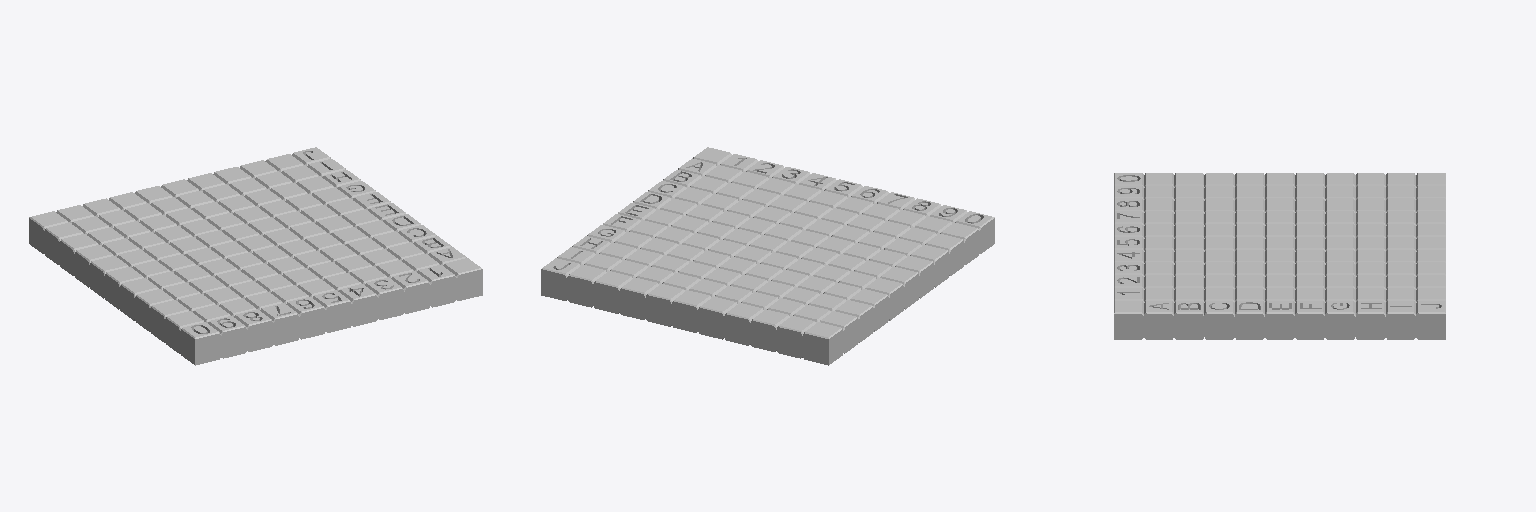
Rendered from Board.obj.
3 views of the same model, side by side, from view 1: azimuth 30°, elevation 25°; view 2: azimuth 150°, elevation 25°; view 3: azimuth 270°, elevation 25° (orthographic).
Parts seen in each view (by area): view 1: pCube57; view 2: pCube57; view 3: pCube57.
Boxes of the visible parts, box(x1,y1,x2,y2) form: pCube57: box(29, 147, 482, 365); pCube57: box(541, 147, 994, 365); pCube57: box(1114, 173, 1445, 339).
Bounding box in the file's own units: 11 × 1 × 11.